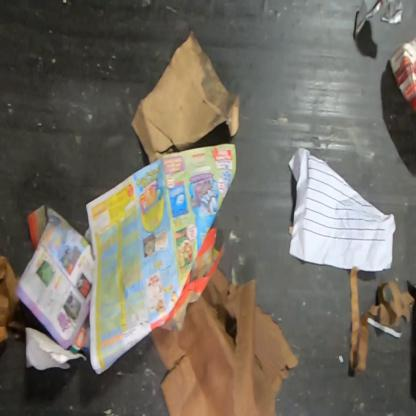cardboard: (149, 267, 301, 415), (129, 30, 240, 164), (348, 266, 415, 374), (0, 256, 20, 347)
